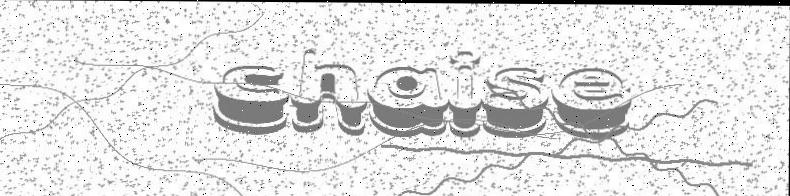a: (367, 65, 449, 138)
c: (213, 63, 290, 136)
e: (551, 66, 633, 139)
h: (290, 48, 369, 136)
i: (448, 49, 483, 139)
s: (482, 65, 551, 138)
